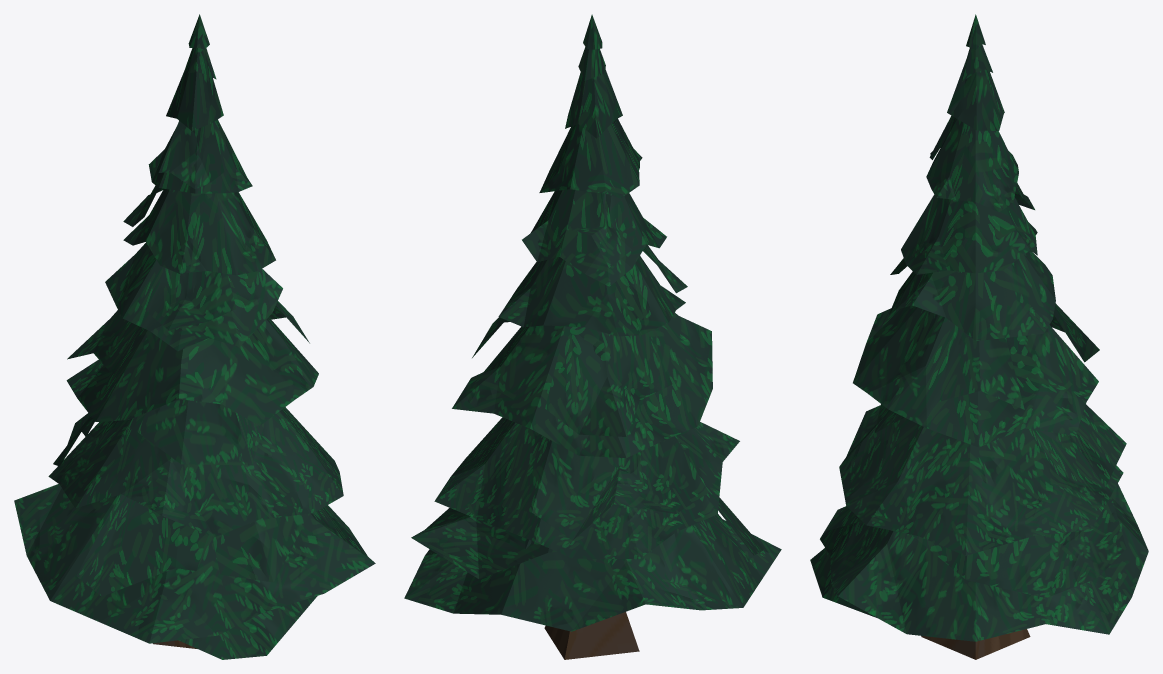
Rendered from C_Tree_tall_lower_poly.fbx.
3 views of the same model, side by side, from view 1: azimuth 30°, elevation 25°; view 2: azimuth 150°, elevation 25°; view 3: azimuth 270°, elevation 25° (orthographic).
Visible parts, largest first — view 1: Cube; view 2: Cube; view 3: Cube.
Boxes of the visible parts, bbox=[...] form: Cube: bbox=[14, 14, 375, 659]; Cube: bbox=[404, 14, 781, 659]; Cube: bbox=[810, 14, 1148, 659].
Bounding box in the file's own units: 7.62 × 15.05 × 7.42.
